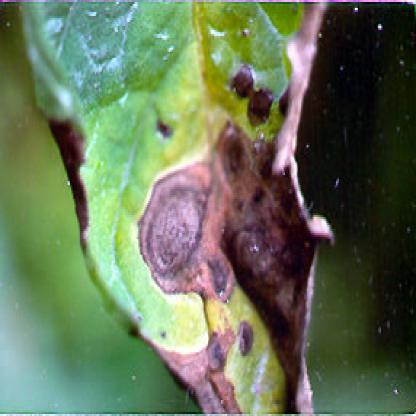tomato early blight leaf: (19, 4, 335, 414)
